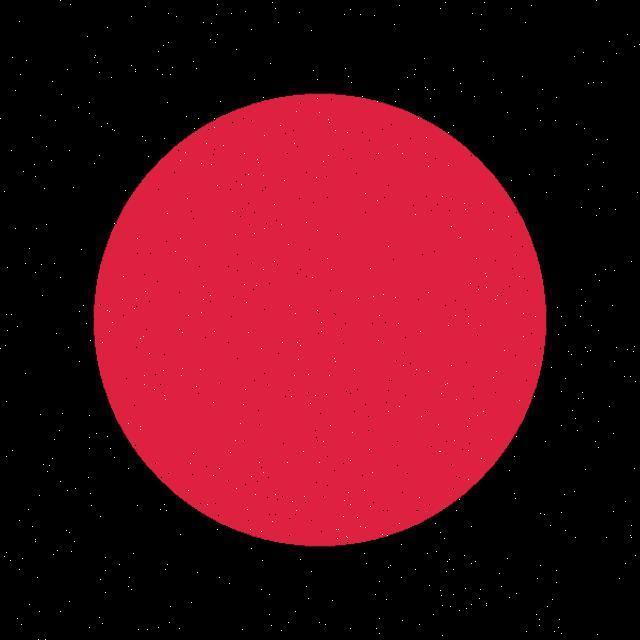Circle: (86, 88, 550, 550)
